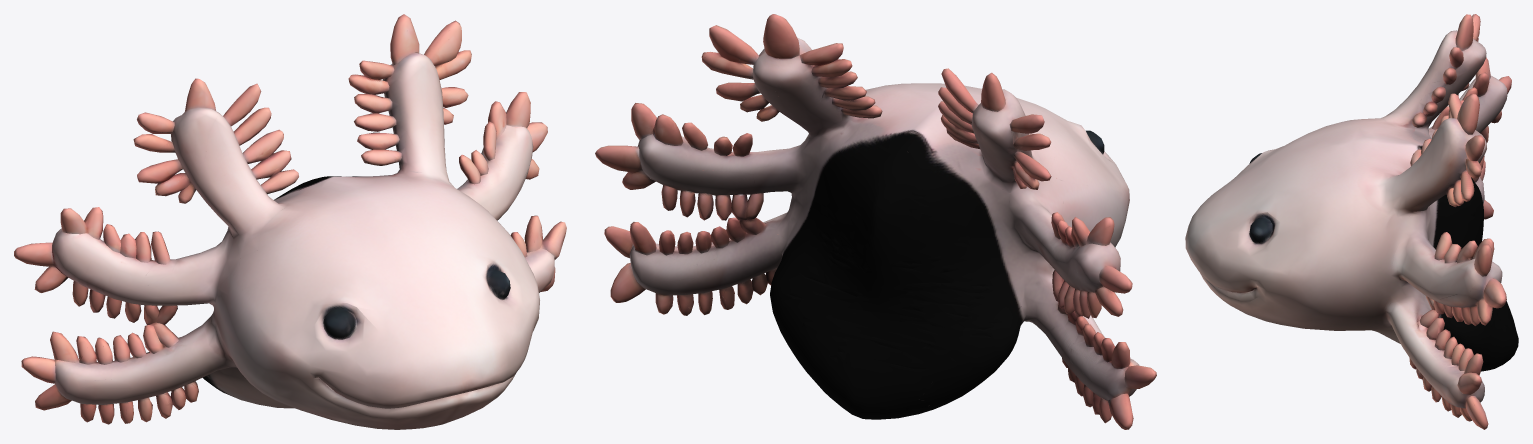
The model's file is cabeza_ajolote.obj.
The picture shows the model from 3 angles, left to right: view 1: azimuth 30°, elevation 25°; view 2: azimuth 150°, elevation 25°; view 3: azimuth 270°, elevation 25°; orthographic projection. The views are drawn at different scales.
Parts seen in each view (by area): view 1: ajolote_cabeza; view 2: ajolote_cabeza; view 3: ajolote_cabeza.
Boxes of the visible parts, x1,y1,x2,y2 form: ajolote_cabeza: [14, 14, 566, 429]; ajolote_cabeza: [595, 14, 1156, 429]; ajolote_cabeza: [1185, 14, 1518, 429].
Size of the model in its own units: 0.8452 by 0.5387 by 0.5206.
1 material, 1 textured.
